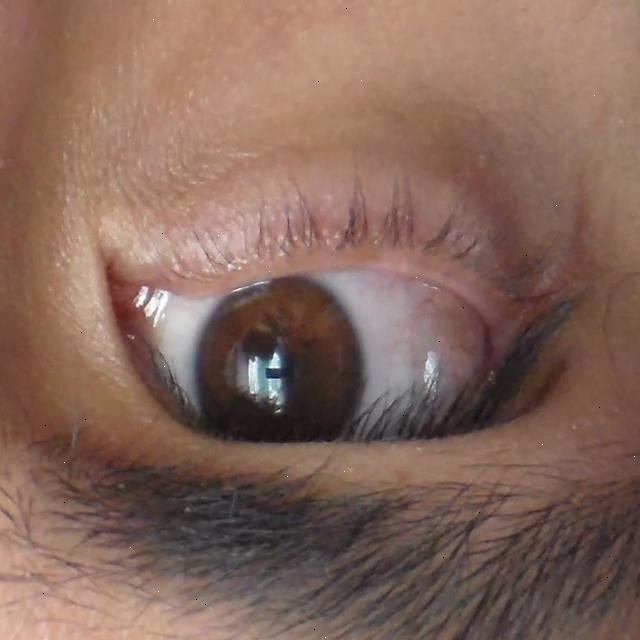Normal: (194, 275, 367, 473)
